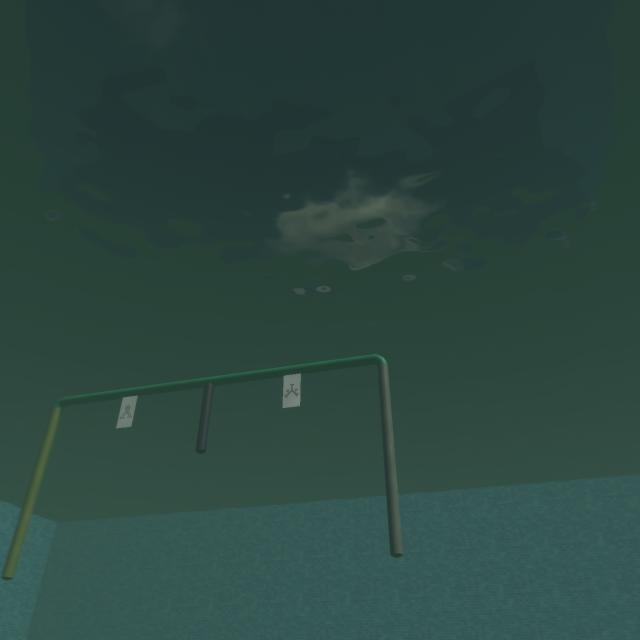abydos: (283, 383, 300, 398)
earth: (119, 404, 133, 420)
gate: (0, 349, 408, 584)
